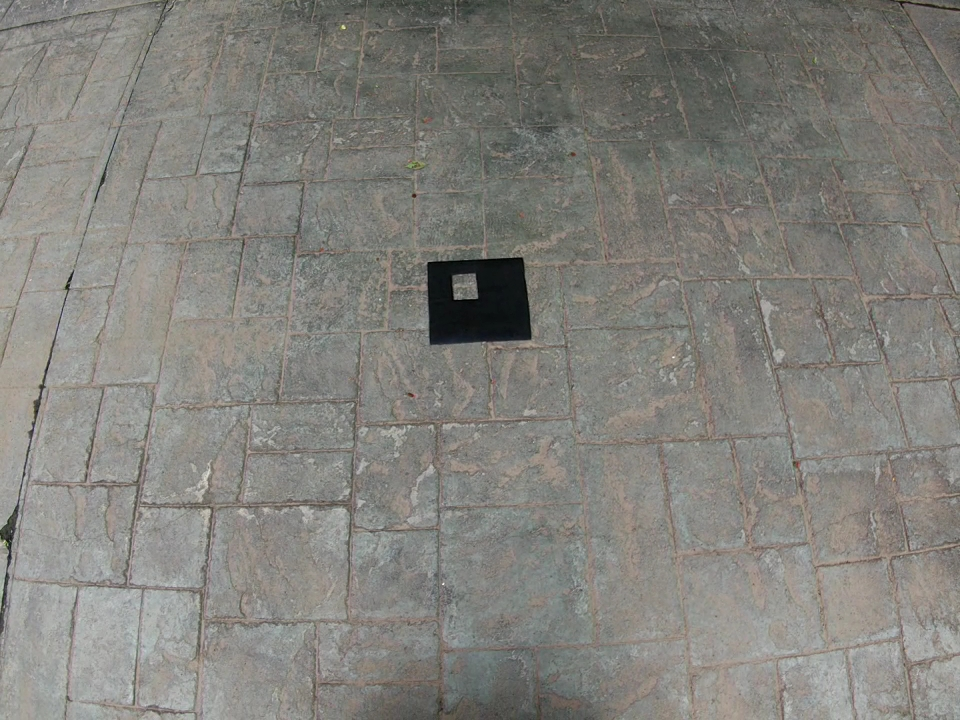qrcode: (426, 258, 531, 344)
